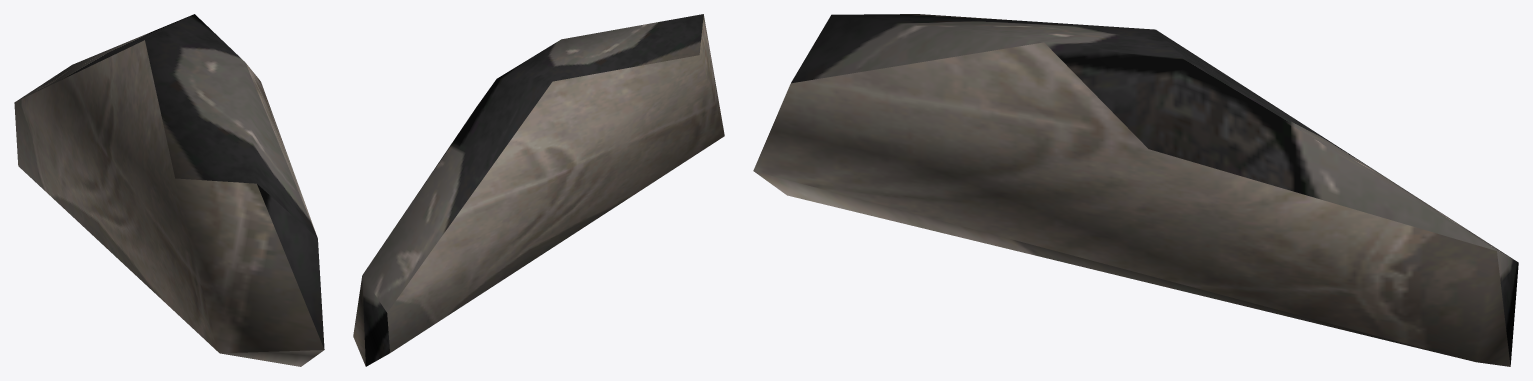
File: dest_nt_nuked_male_01_arm_left_LOD3.obj
3 views of the same model, side by side, from view 1: azimuth 30°, elevation 25°; view 2: azimuth 150°, elevation 25°; view 3: azimuth 270°, elevation 25° (orthographic). The views are drawn at different scales.
Parts seen in each view (by area): view 1: mtl_nt_2020_manne_male01_pants1; view 2: mtl_nt_2020_manne_male01_pants1; view 3: mtl_nt_2020_manne_male01_pants1.
Part boxes in pixels (<box>): mtl_nt_2020_manne_male01_pants1: <box>14,14,324,366</box>; mtl_nt_2020_manne_male01_pants1: <box>353,14,724,366</box>; mtl_nt_2020_manne_male01_pants1: <box>753,14,1518,366</box>.
Size of the model in its own units: 21.5 by 29.54 by 67.53.
